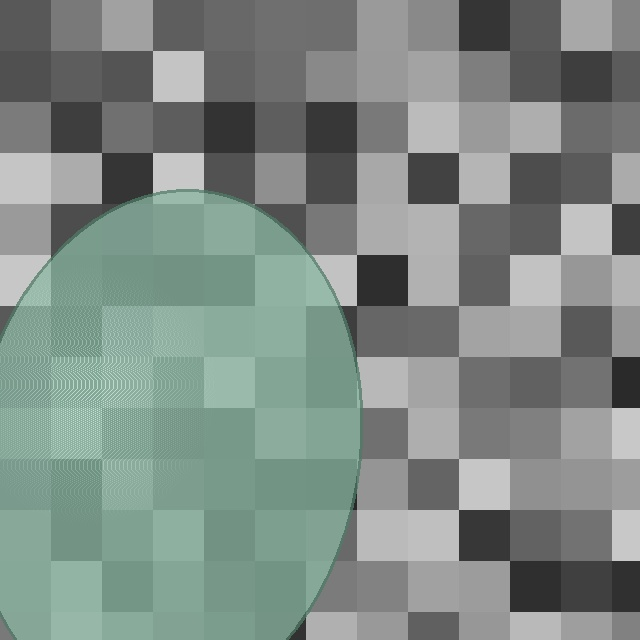lens: (0, 192, 361, 640)
